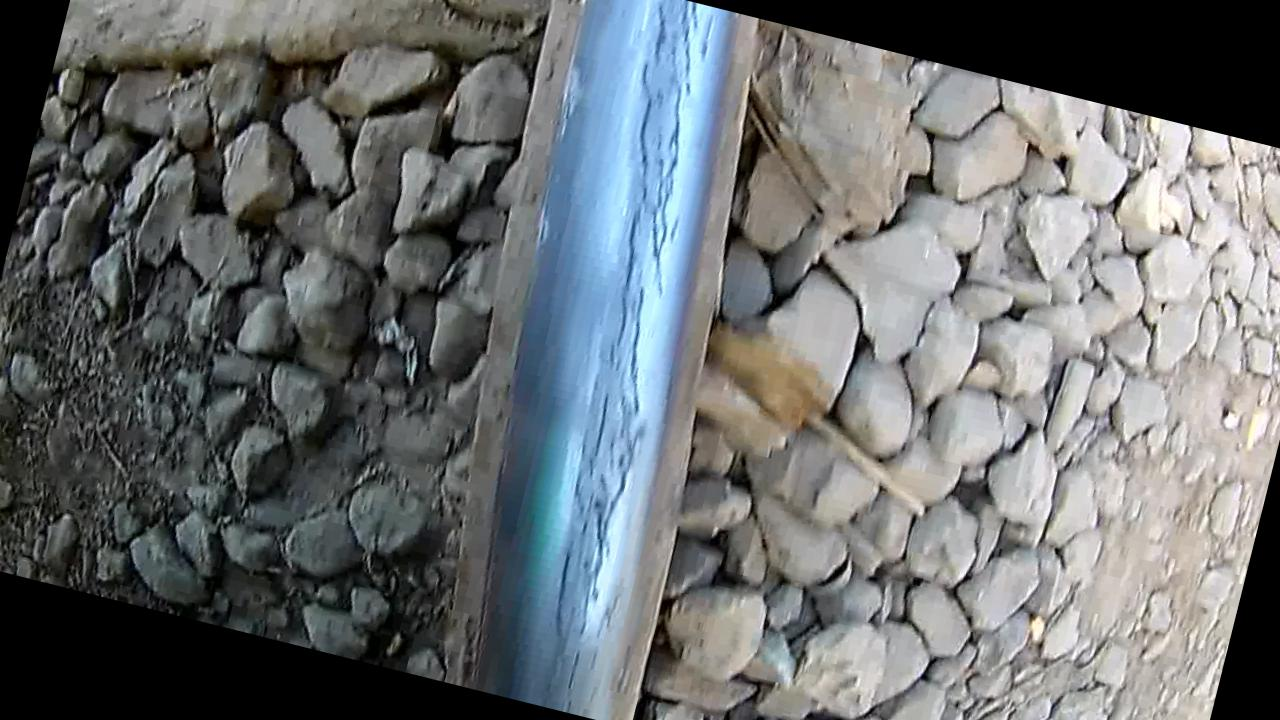normal_track: (487, 0, 753, 711)
